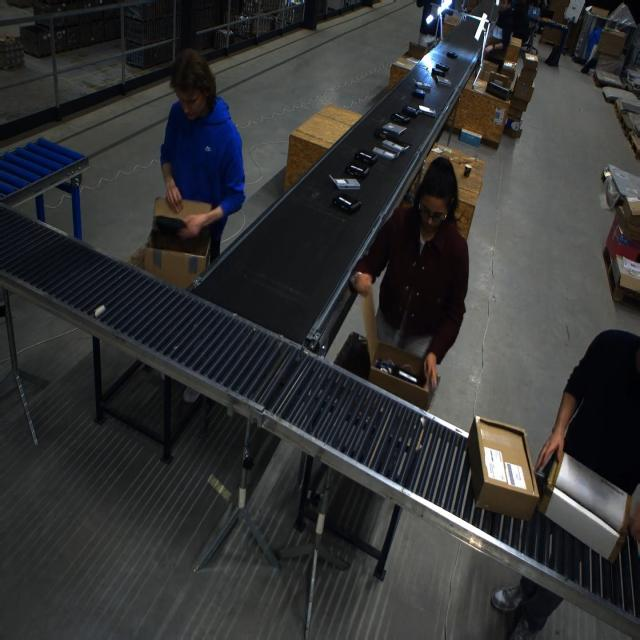box: (537, 449, 635, 567), (361, 288, 440, 405), (466, 417, 538, 518), (142, 196, 214, 287), (614, 202, 640, 245), (597, 28, 625, 57), (509, 78, 535, 105), (518, 56, 538, 86), (478, 60, 502, 84), (539, 23, 563, 46), (502, 116, 524, 139), (487, 71, 511, 92), (503, 99, 526, 120), (498, 62, 516, 84)
product: (331, 196, 360, 215), (329, 174, 360, 190), (345, 162, 370, 179), (372, 146, 399, 161), (381, 123, 407, 138), (354, 151, 378, 166), (381, 139, 405, 153), (390, 112, 411, 124), (417, 104, 436, 117), (401, 105, 418, 118), (435, 75, 453, 86), (415, 80, 432, 90), (434, 63, 449, 73), (413, 88, 426, 98), (446, 51, 458, 58)
